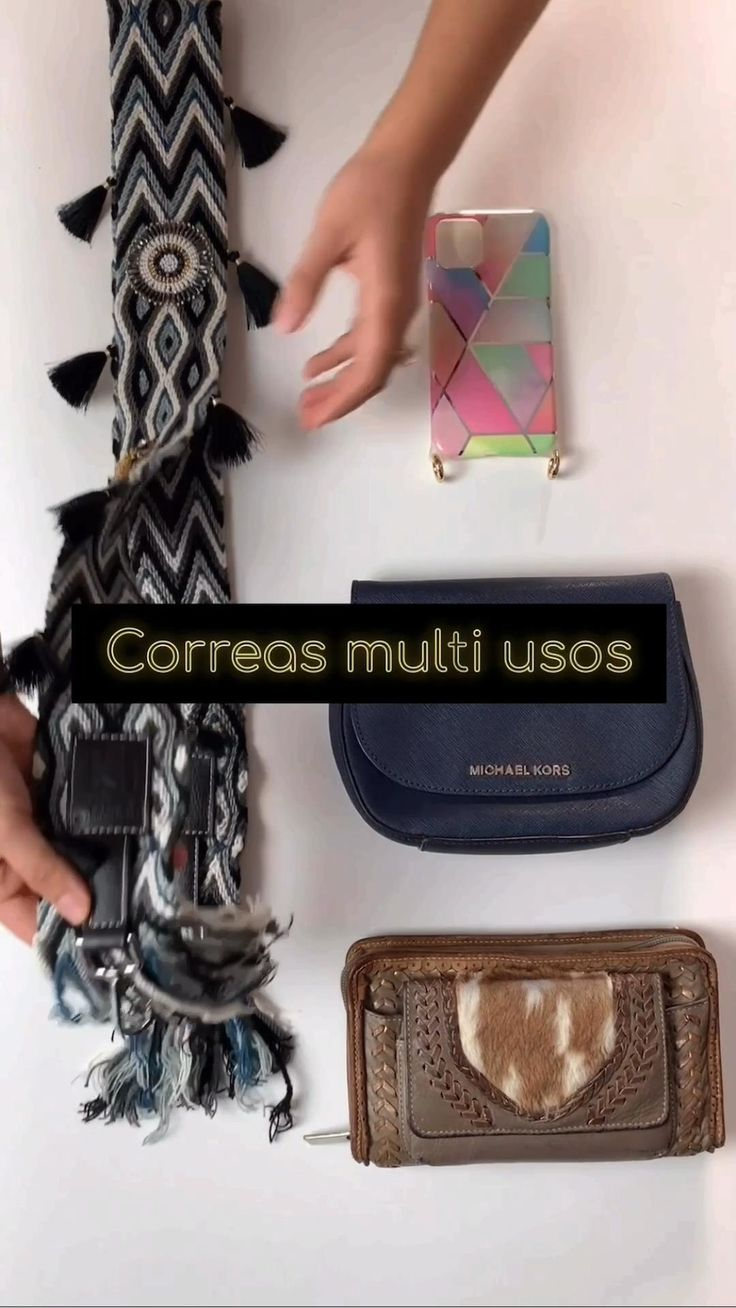cuero: (344, 933, 732, 1170)
